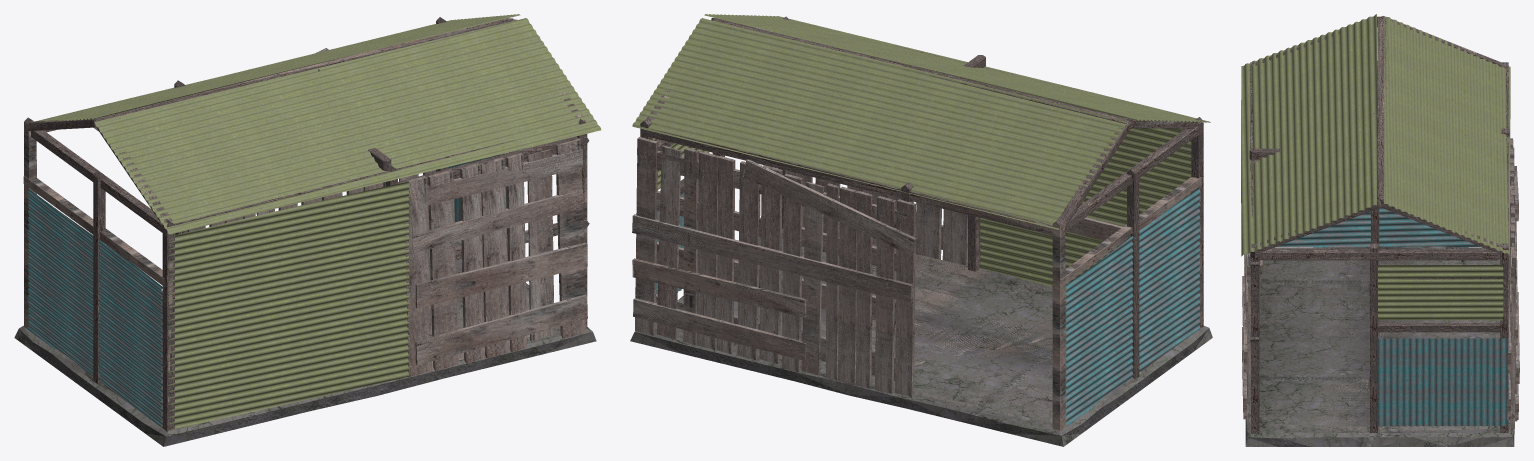
Rendered from Mini_shed 2.fbx.
The picture shows the model from 3 angles, left to right: view 1: azimuth 30°, elevation 25°; view 2: azimuth 150°, elevation 25°; view 3: azimuth 270°, elevation 25°; orthographic projection. The views are drawn at different scales.
Visible parts, largest first — view 1: Group1; view 2: Group1; view 3: Group1.
Boxes of the visible parts, left/top/right/bottom form: Group1: left=14, top=14, right=601, bottom=446; Group1: left=630, top=14, right=1212, bottom=446; Group1: left=1241, top=14, right=1519, bottom=446.
Bounding box in the file's own units: 696 × 419 × 428.
